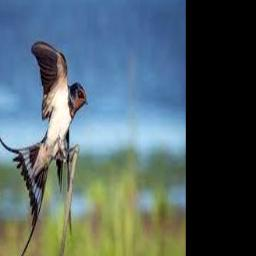Swallow: (0, 42, 87, 256)
